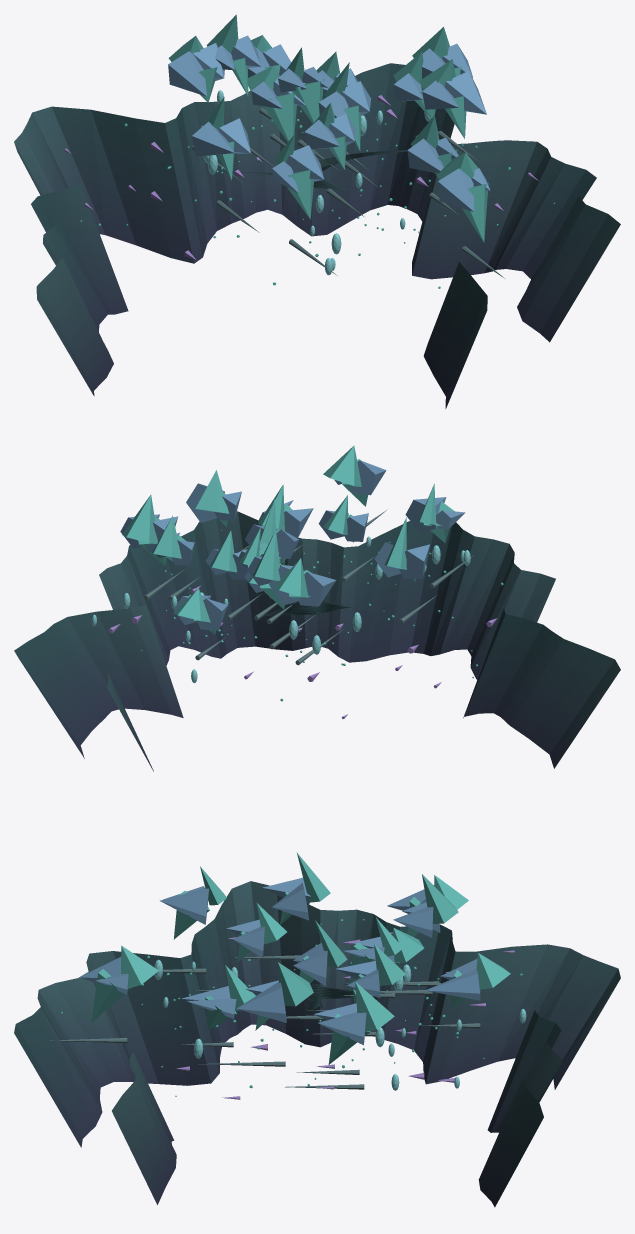
File: hexcore_living_landscape_03.glb
3 renders of one model, top to bottom at view 1: azimuth 30°, elevation 25°; view 2: azimuth 150°, elevation 25°; view 3: azimuth 270°, elevation 25°, orthographic. The views are drawn at different scales.
Parts seen in each view (by area): view 1: ELVEN_GROWN_TERRAIN, SCULPTURAL_ELVEN_CANOPIES, BIO_LUMINESCENT_GROUND_LIFE; view 2: ELVEN_GROWN_TERRAIN, SCULPTURAL_ELVEN_CANOPIES, BIO_LUMINESCENT_GROUND_LIFE; view 3: ELVEN_GROWN_TERRAIN, SCULPTURAL_ELVEN_CANOPIES, BIO_LUMINESCENT_GROUND_LIFE.
Part boxes in pixels (left/top/right/bottom): ELVEN_GROWN_TERRAIN: left=14, top=63, right=620, bottom=408; SCULPTURAL_ELVEN_CANOPIES: left=168, top=14, right=504, bottom=278; BIO_LUMINESCENT_GROUND_LIFE: left=64, top=90, right=554, bottom=288; ELVEN_GROWN_TERRAIN: left=14, top=511, right=620, bottom=771; SCULPTURAL_ELVEN_CANOPIES: left=120, top=445, right=474, bottom=665; BIO_LUMINESCENT_GROUND_LIFE: left=91, top=529, right=503, bottom=718; ELVEN_GROWN_TERRAIN: left=14, top=881, right=620, bottom=1207; SCULPTURAL_ELVEN_CANOPIES: left=49, top=853, right=510, bottom=1089; BIO_LUMINESCENT_GROUND_LIFE: left=60, top=919, right=526, bottom=1099.
Size of the model in its own units: 98.65 by 47.2 by 99.72.
